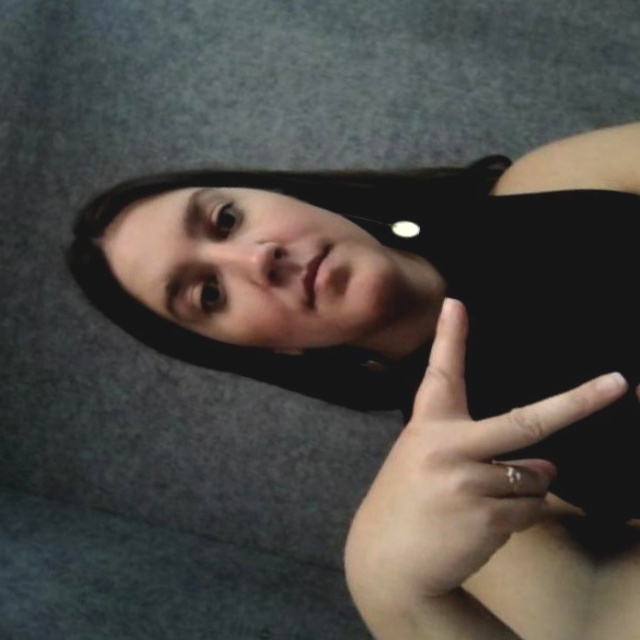Scissors: (336, 273, 626, 626)
